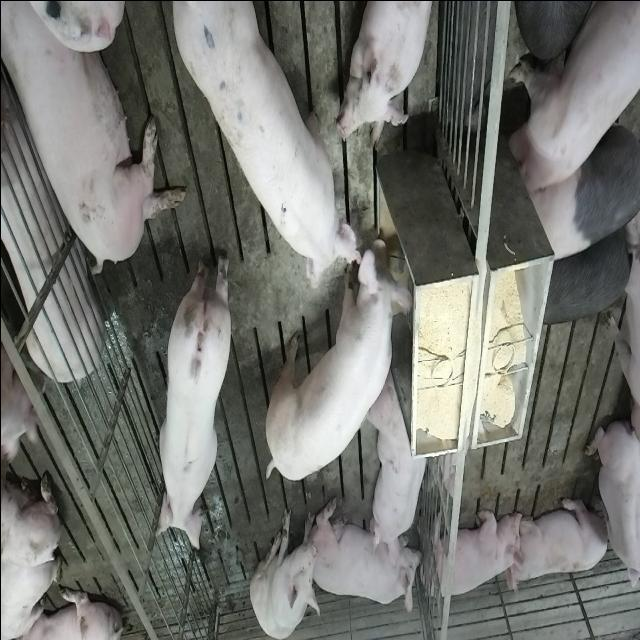Lateral_lying: (4, 4, 188, 278), (0, 63, 103, 388)
Sitting: (249, 503, 319, 637)
Standing: (168, 4, 362, 292), (262, 232, 409, 478), (504, 0, 638, 196), (150, 244, 230, 552), (524, 90, 638, 261), (538, 220, 628, 328)
Sternal_lying: (338, 0, 437, 146), (314, 502, 422, 618), (370, 370, 430, 554), (584, 415, 637, 600), (509, 491, 609, 588), (426, 502, 522, 602)
